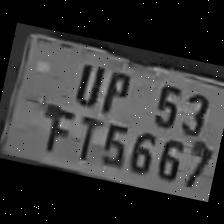3: (174, 84, 212, 136)
5: (146, 76, 186, 130), (92, 116, 132, 170)
6: (150, 131, 187, 185), (122, 125, 159, 177)
7: (176, 136, 214, 192)
F: (32, 100, 76, 156)
P: (94, 62, 135, 116)
T: (66, 110, 104, 164)
U: (66, 54, 108, 108)
